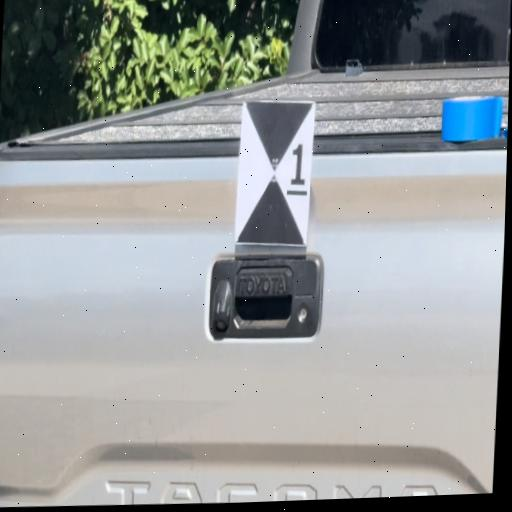target1: (237, 98, 312, 246)
